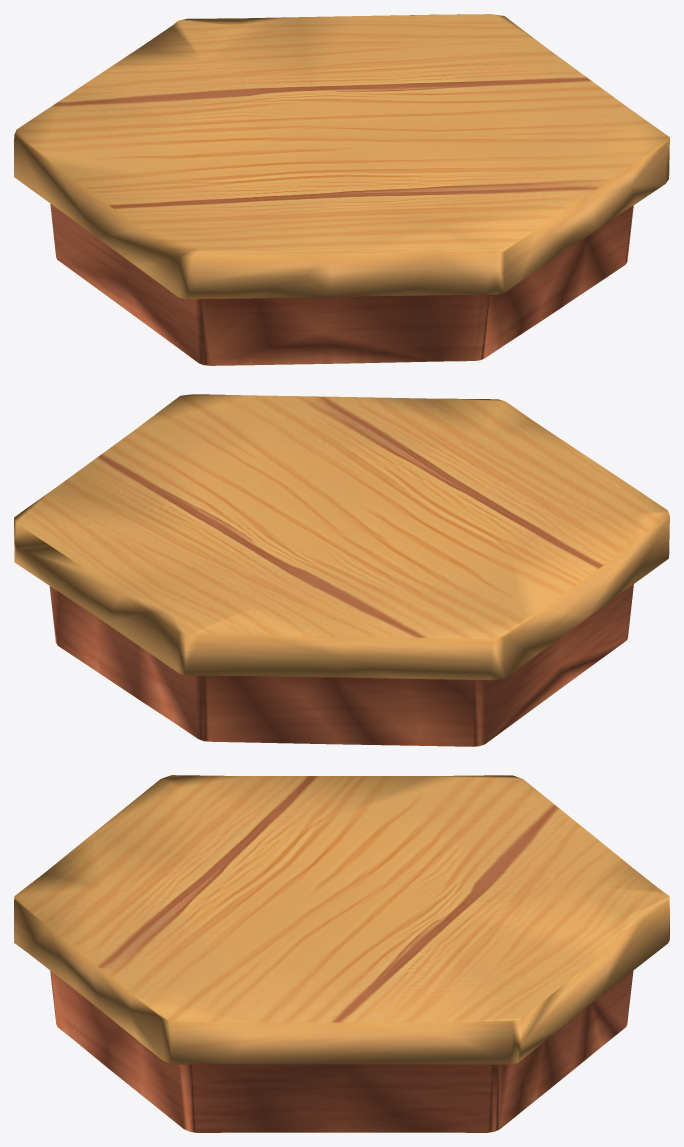
The model's file is tripo_mat_7ec9051f.mat.meta.fbx.
3 renders of one model, top to bottom at view 1: azimuth 30°, elevation 25°; view 2: azimuth 150°, elevation 25°; view 3: azimuth 270°, elevation 25°, orthographic. The views are drawn at different scales.
Parts seen in each view (by area): view 1: tripo_node_ae69f61a; view 2: tripo_node_ae69f61a; view 3: tripo_node_ae69f61a.
Part boxes in pixels (x1,y1,x2,y2): tripo_node_ae69f61a: (14, 14, 669, 365); tripo_node_ae69f61a: (14, 394, 669, 746); tripo_node_ae69f61a: (14, 775, 669, 1132).
Bounding box in the file's own units: 0.8882 × 0.2139 × 0.9997.
1 material, 1 textured.
